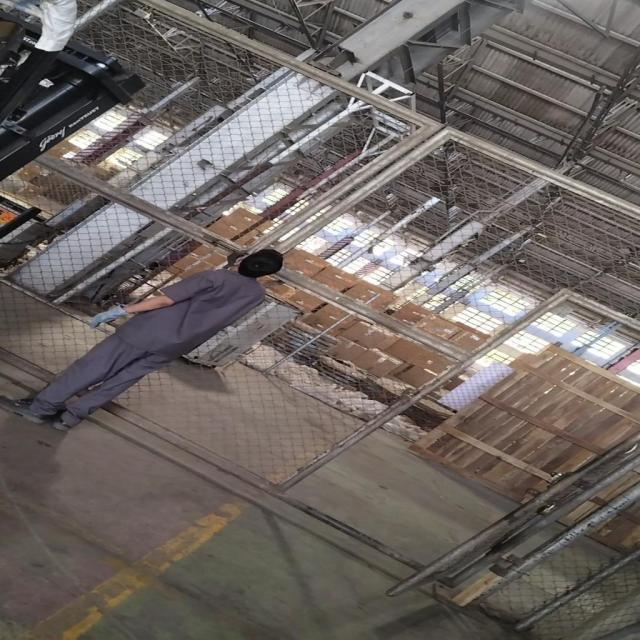Gloves-Detection: (85, 302, 132, 325)
